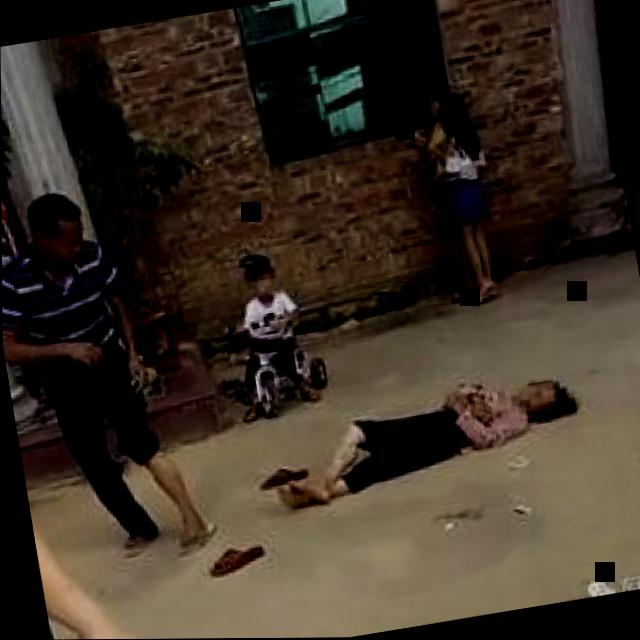Fall-Detected: (236, 345, 582, 517)
